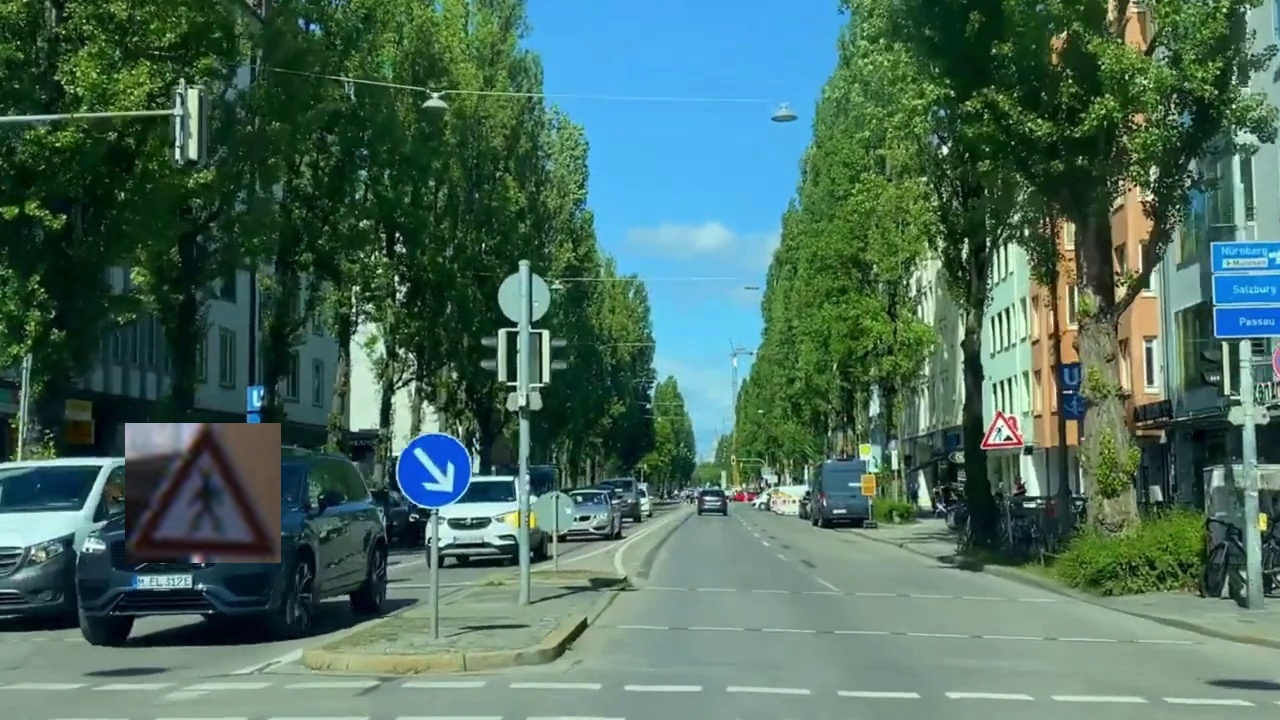Pedestrians: (125, 423, 281, 563)
